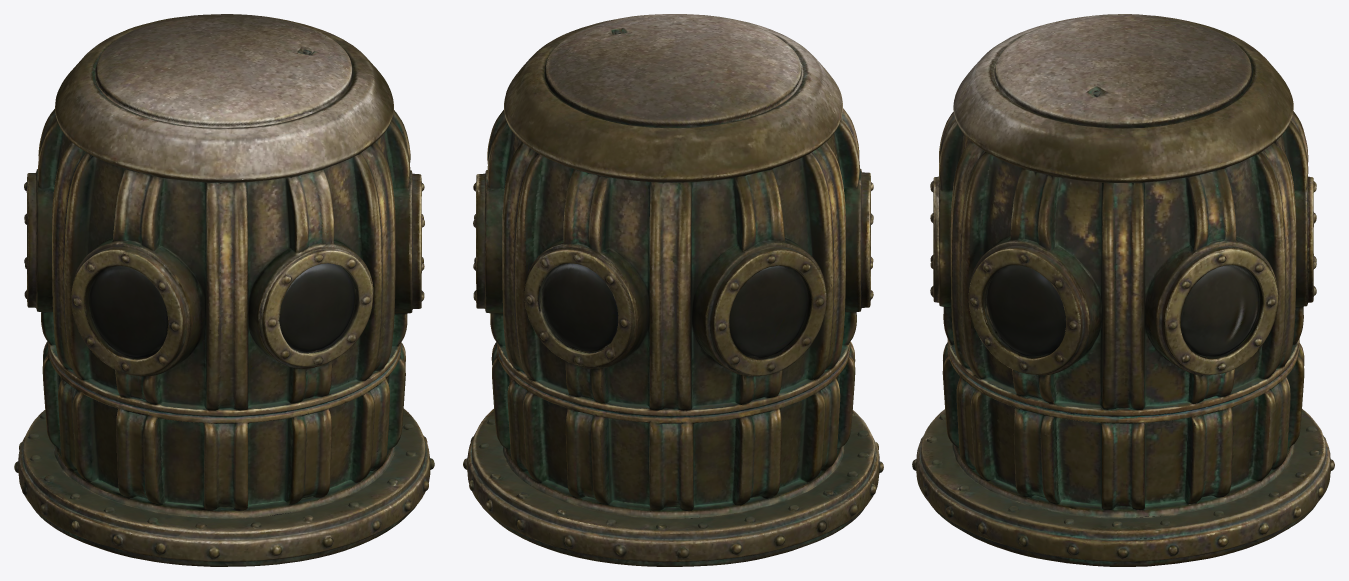
The model's file is helmet.glb.
3 renders of one model, left to right at view 1: azimuth 30°, elevation 25°; view 2: azimuth 150°, elevation 25°; view 3: azimuth 270°, elevation 25°, orthographic.
Visible parts, largest first — view 1: model; view 2: model; view 3: model.
Part boxes in pixels (<box>): model: <box>14,14,434,566</box>; model: <box>463,14,883,566</box>; model: <box>912,14,1334,566</box>.
Size of the model in its own units: 0.8722 by 0.9795 by 0.875.
1 material, 1 textured.
